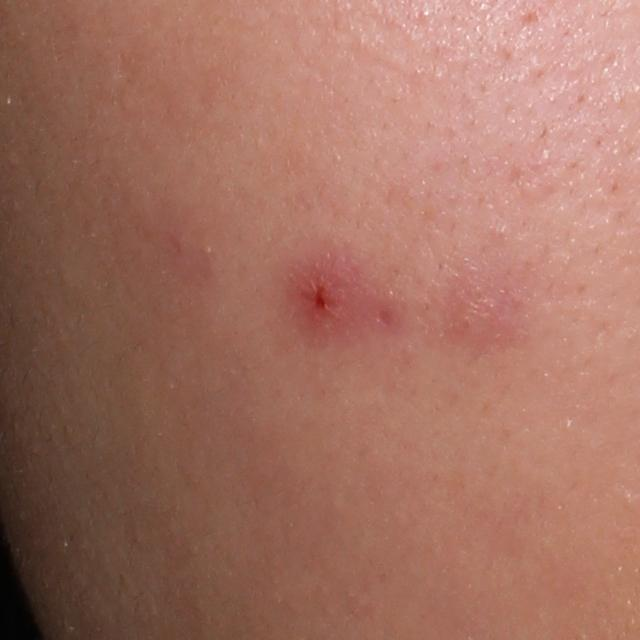papule: (274, 265, 359, 341)
